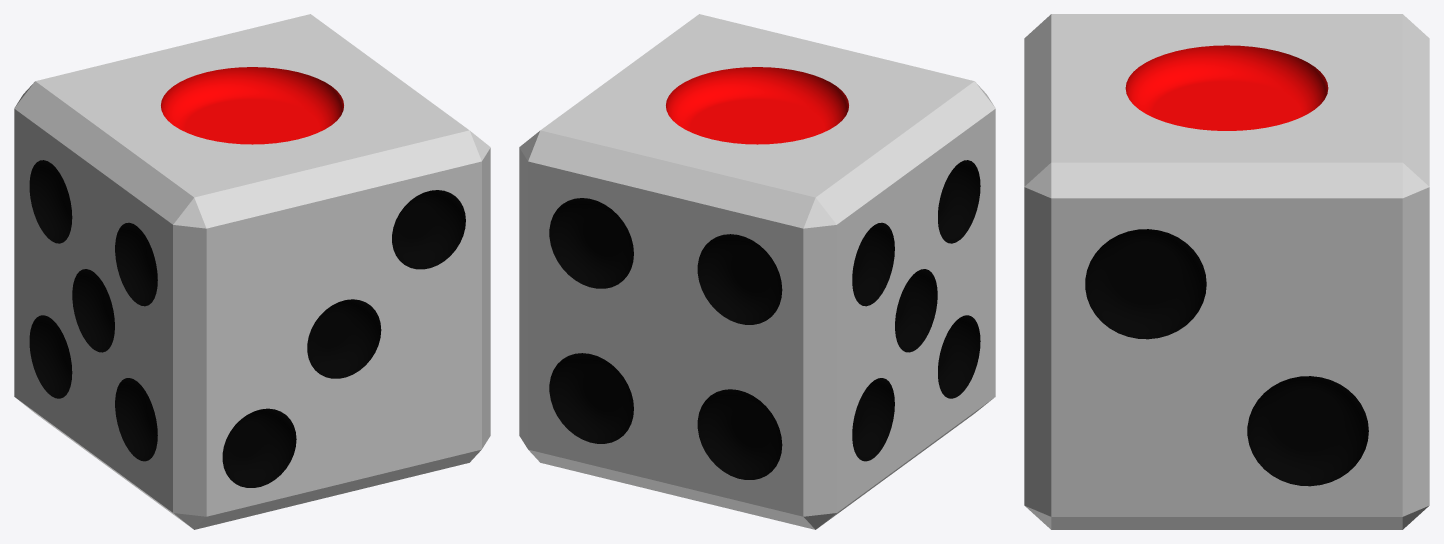
The model's file is saikoro.glb.
3 renders of one model, left to right at view 1: azimuth 30°, elevation 25°; view 2: azimuth 150°, elevation 25°; view 3: azimuth 270°, elevation 25°, orthographic. The views are drawn at different scales.
Visible parts, largest first — view 1: 製図; view 2: 製図; view 3: 製図.
Part boxes in pixels (x1,y1,x2,y2): 製図: [14, 14, 490, 529]; 製図: [519, 14, 995, 529]; 製図: [1024, 14, 1429, 529].
Size of the model in its own units: 0.03 by 0.03 by 0.03.
